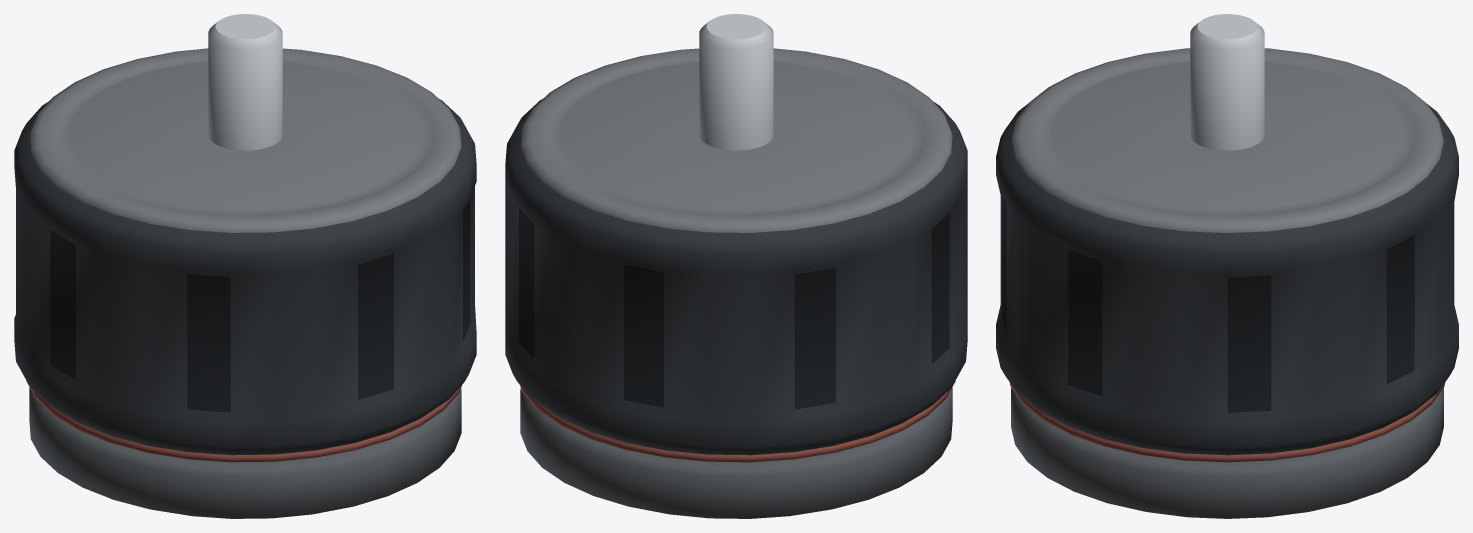
File: small_motor_closed.glb
The picture shows the model from 3 angles, left to right: view 1: azimuth 30°, elevation 25°; view 2: azimuth 150°, elevation 25°; view 3: azimuth 270°, elevation 25°; orthographic projection.
Visible parts, largest first — view 1: SmallMotor_Bell, SmallMotor_TopCap, SmallMotor_Base, SmallMotor_Shaft, SmallMotor_AccentRing; view 2: SmallMotor_Bell, SmallMotor_TopCap, SmallMotor_Base, SmallMotor_Shaft, SmallMotor_AccentRing; view 3: SmallMotor_Bell, SmallMotor_TopCap, SmallMotor_Base, SmallMotor_Shaft, SmallMotor_AccentRing.
Part boxes in pixels (x1,y1,x2,y2): SmallMotor_Bell: [14, 99, 476, 455]; SmallMotor_TopCap: [29, 48, 461, 232]; SmallMotor_Base: [29, 387, 461, 518]; SmallMotor_Shaft: [208, 14, 282, 150]; SmallMotor_AccentRing: [26, 381, 461, 462]; SmallMotor_Bell: [505, 99, 967, 455]; SmallMotor_TopCap: [520, 48, 952, 232]; SmallMotor_Base: [520, 387, 952, 518]; SmallMotor_Shaft: [699, 14, 773, 150]; SmallMotor_AccentRing: [520, 381, 955, 462]; SmallMotor_Bell: [996, 104, 1458, 455]; SmallMotor_TopCap: [1011, 48, 1443, 232]; SmallMotor_Base: [1011, 388, 1443, 518]; SmallMotor_Shaft: [1190, 14, 1264, 150]; SmallMotor_AccentRing: [1009, 382, 1445, 462].
Bounding box in the file's own units: 0.031 × 0.03 × 0.031.
